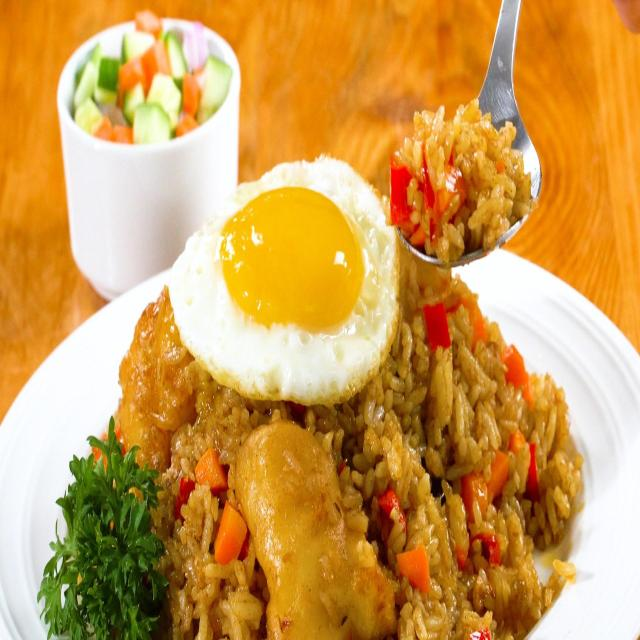Nasi Goreng: (89, 233, 609, 640)
